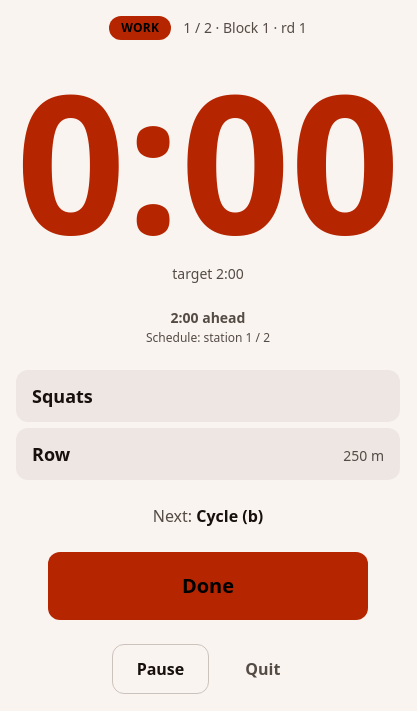
Test: EmomPlayer circuit segments › tapping Done advances to the next cycle with the checklist reset
Click the button "Squats": (62,396) top-left (16, 370), bottom-right (400, 422)
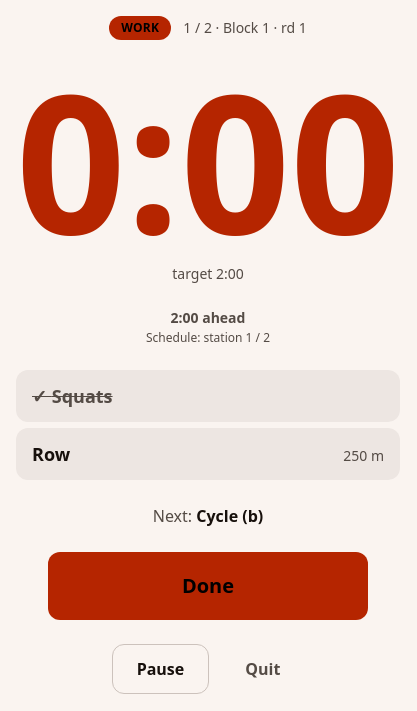
Click the button "Done": (208,586) top-left (48, 552), bottom-right (368, 620)
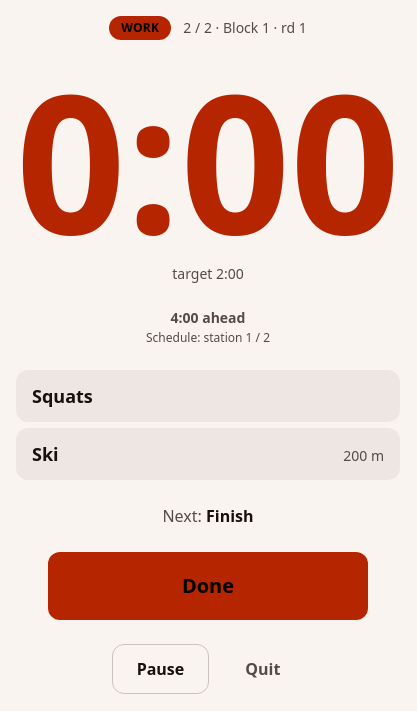
Expected: the text "2 / 2 · Block 1 · rd 1" is shown, top-left (183, 18), bottom-right (307, 38)
